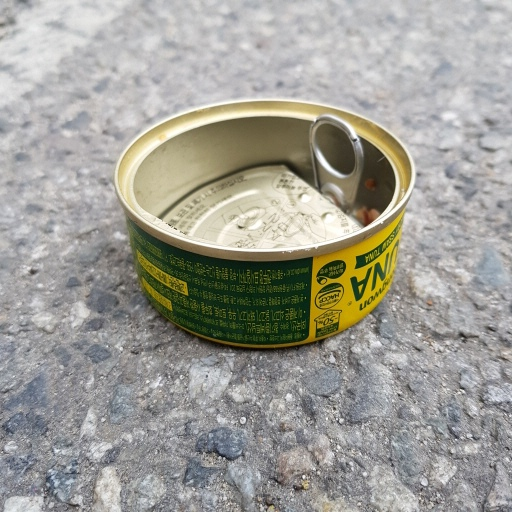Metal_1: (113, 99, 417, 348)
